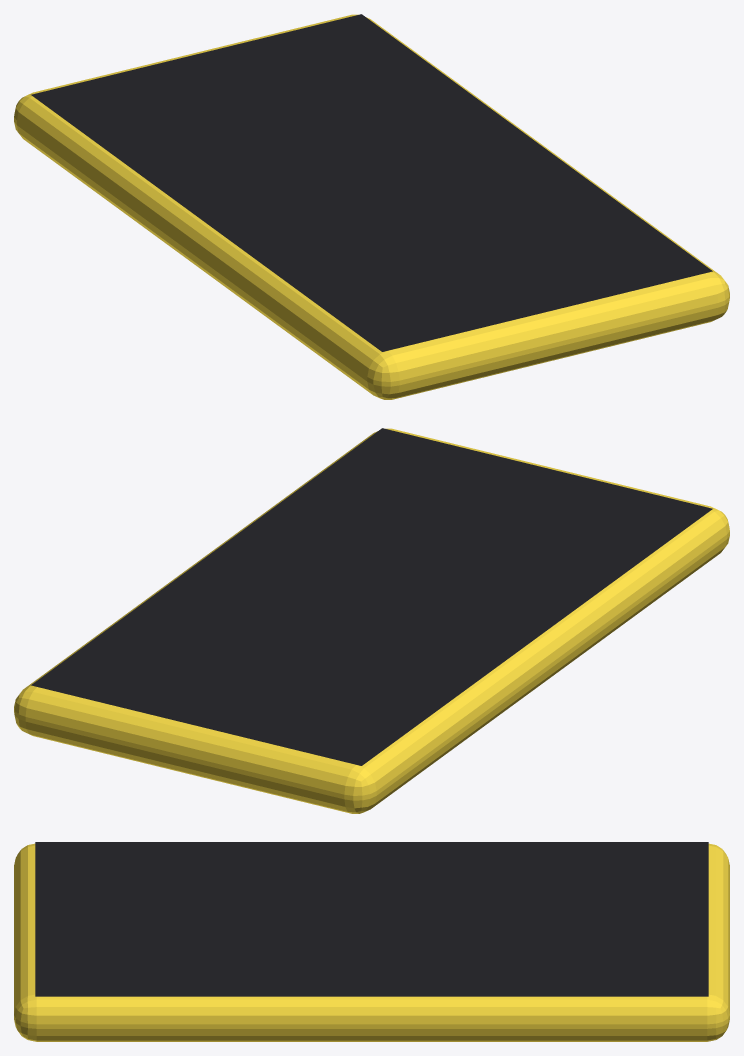
The model's file is Phone_327.glb.
3 views of the same model, one above another, from view 1: azimuth 30°, elevation 25°; view 2: azimuth 150°, elevation 25°; view 3: azimuth 270°, elevation 25° (orthographic). The views are drawn at different scales.
Parts seen in each view (by area): view 1: Phone_Screen, Phone_Body; view 2: Phone_Screen, Phone_Body; view 3: Phone_Screen, Phone_Body.
Part boxes in pixels (x1,y1,x2,y2): Phone_Screen: (31,14,712,351); Phone_Body: (14,14,729,399); Phone_Screen: (31,428,712,765); Phone_Body: (14,428,729,813); Phone_Screen: (35,842,708,996); Phone_Body: (14,843,729,1041).
Bounding box in the file's own units: 0.0778 × 0.0099 × 0.1401.
